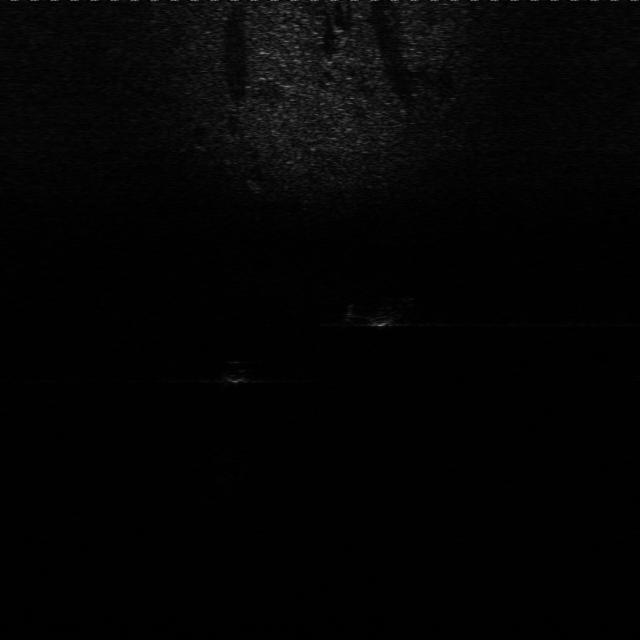ball: (220, 359, 258, 384)
human body: (346, 300, 422, 330)
